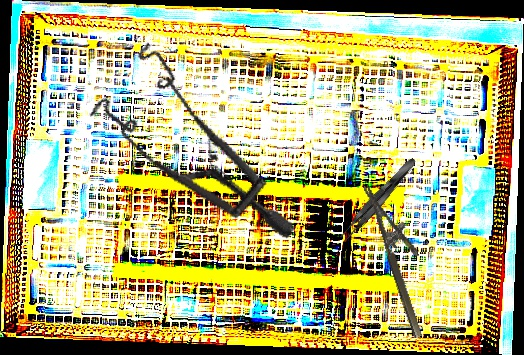Needle Holder: (363, 176, 443, 340)
Speculum: (70, 32, 332, 240)
Tissue Forceps: (337, 154, 420, 245)
